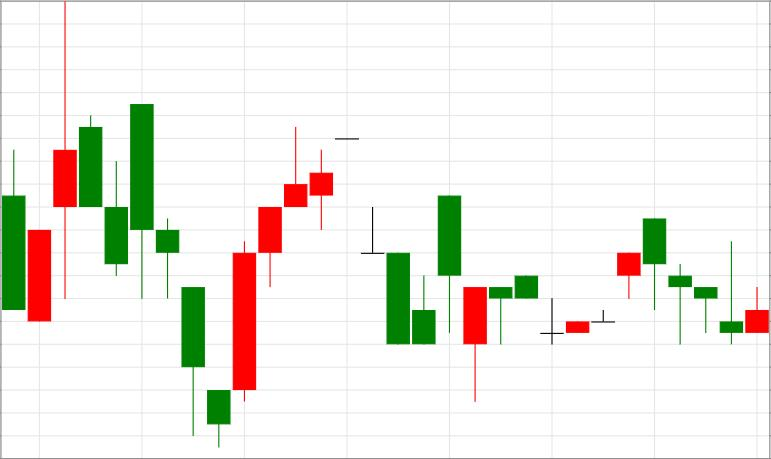three_white_soldiers_rise: (131, 103, 307, 447)
